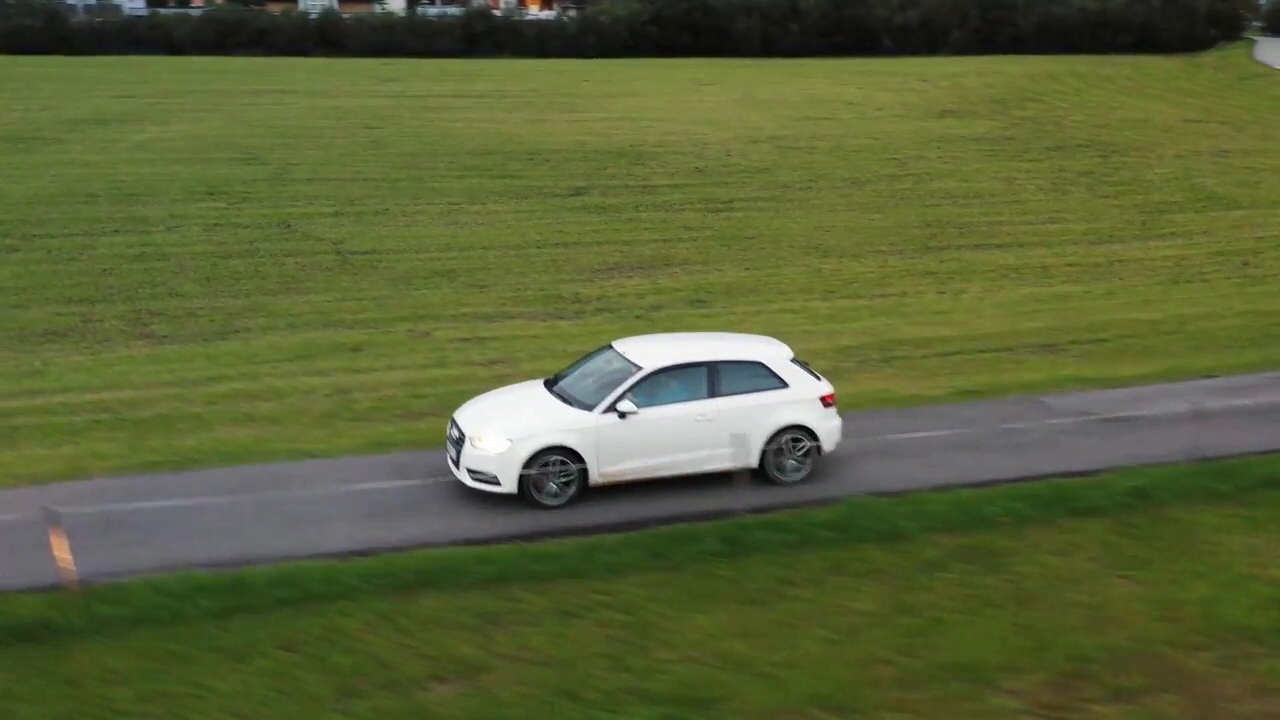araba: (439, 328, 842, 506)
